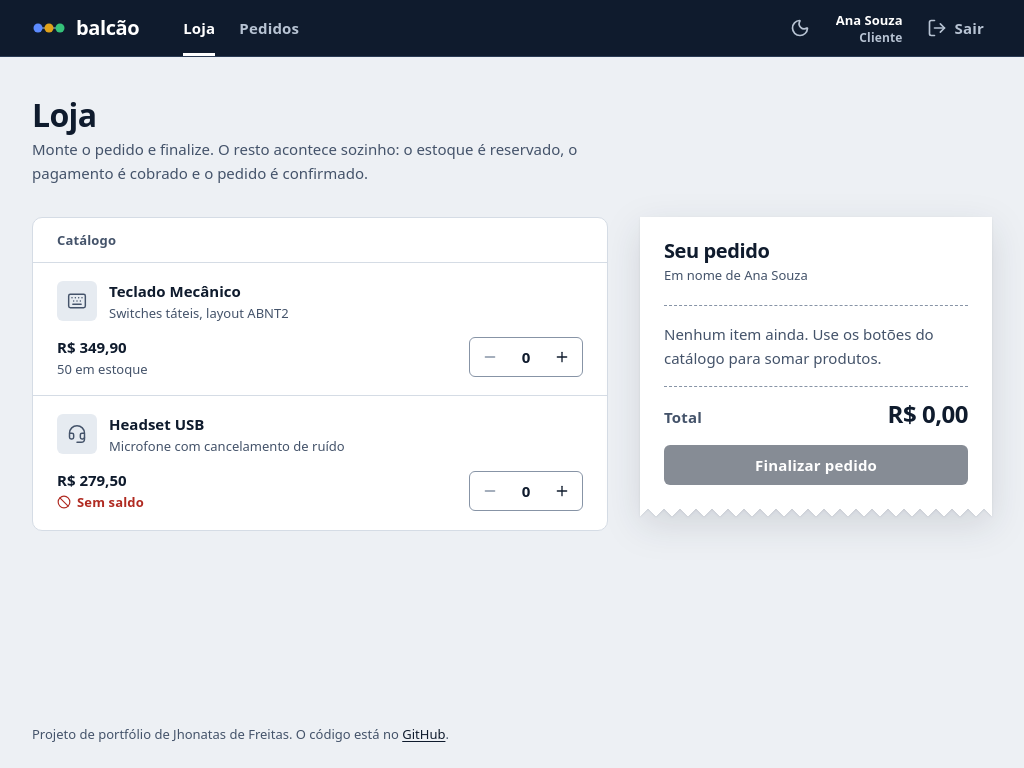
placing an order › sendsTheCartInTheContractShapeAndGoesToTheOrders
This screenshot has width=1024, height=768.
Click the button named "Aumentar Teclado Mecânico": point(562, 357) x1=542 y1=337 x2=582 y2=377
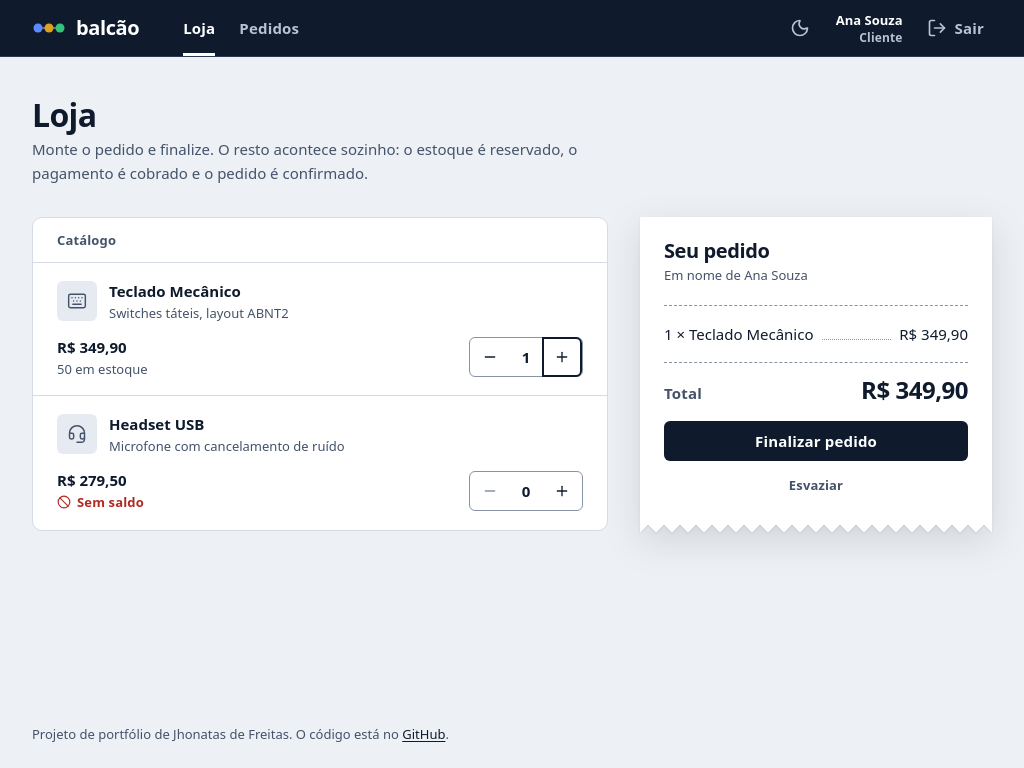
Click the button named "Aumentar Teclado Mecânico": point(562, 357) x1=542 y1=337 x2=582 y2=377
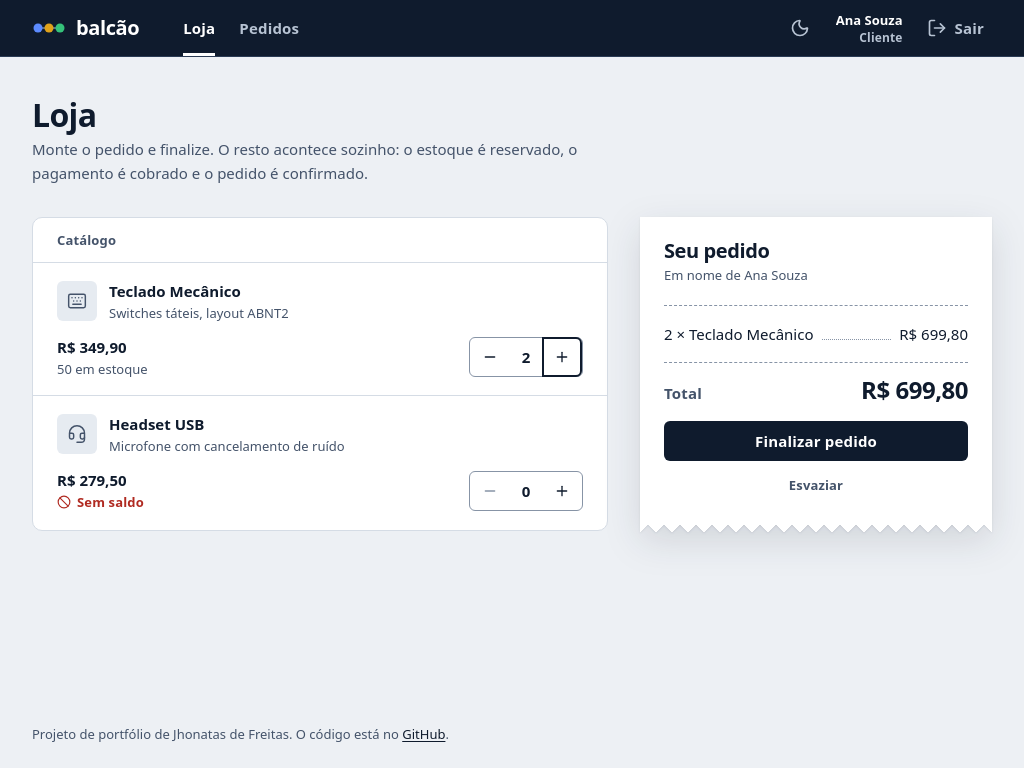
Expected: the text "R$ 699,80" next to "Total" is shown, x1=861 y1=373 x2=968 y2=406
Click the button "Finalizar pedido": point(816, 441) x1=664 y1=421 x2=968 y2=461
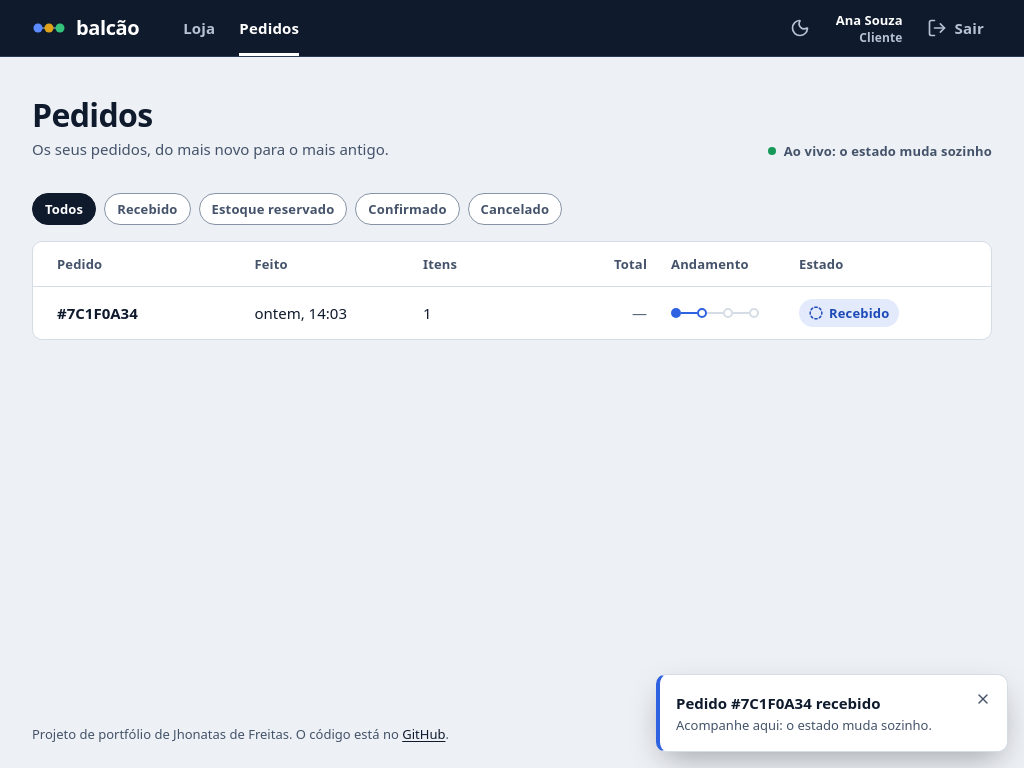
Expected: the heading "Pedidos" is shown, x1=32 y1=93 x2=152 y2=136
Expected: the text "Recebido" is shown, x1=799 y1=299 x2=899 y2=327
